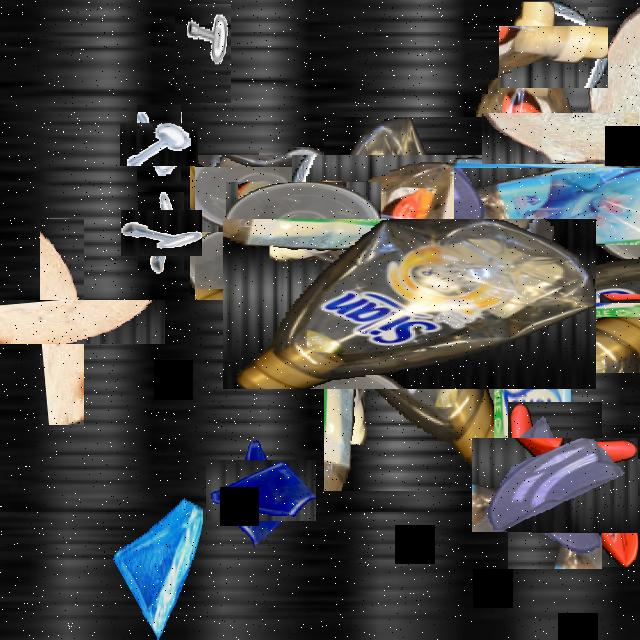glass: (490, 420, 620, 551), (112, 478, 202, 638), (218, 448, 304, 534)
metal: (510, 14, 596, 100), (175, 4, 231, 103), (129, 201, 193, 265), (128, 114, 190, 174)
plastic: (368, 77, 640, 370), (273, 168, 545, 440), (400, 201, 608, 411), (193, 157, 333, 298), (242, 165, 364, 287), (548, 442, 640, 550), (635, 2, 640, 183)
wood: (535, 59, 640, 217), (0, 259, 124, 384)
